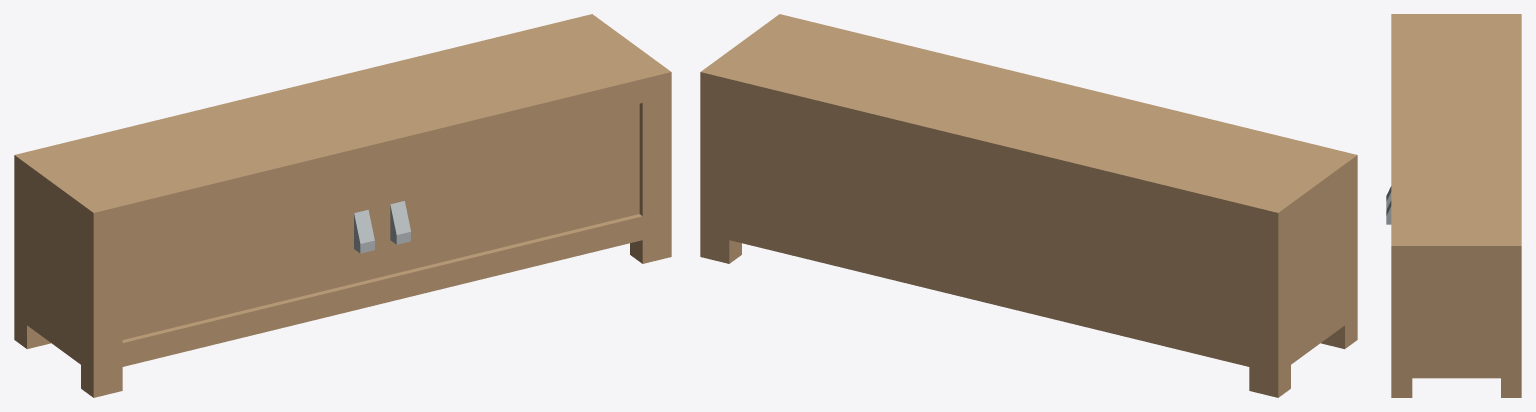
File: tv-unit-doors.glb
3 renders of one model, left to right at view 1: azimuth 30°, elevation 25°; view 2: azimuth 150°, elevation 25°; view 3: azimuth 270°, elevation 25°, orthographic. The views are drawn at different scales.
Parts seen in each view (by area): view 1: tv-unit-doors; view 2: tv-unit-doors; view 3: tv-unit-doors.
Part boxes in pixels (bbox=[...]): tv-unit-doors: bbox=[14, 14, 671, 397]; tv-unit-doors: bbox=[700, 14, 1357, 397]; tv-unit-doors: bbox=[1386, 14, 1521, 397].
Bounding box in the file's own units: 1.7 × 0.52 × 0.42.
